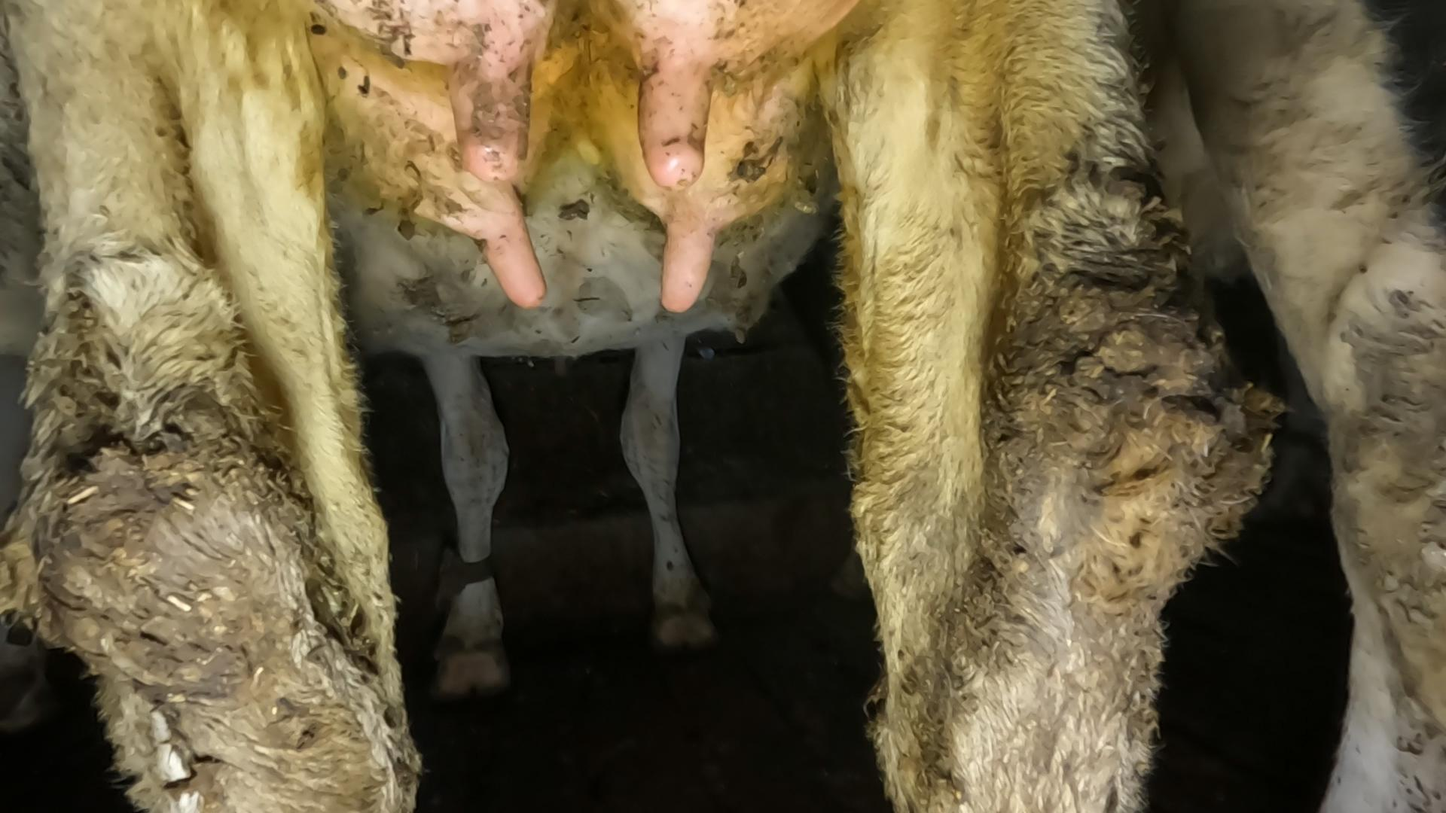Zitze: (630, 39, 740, 185), (438, 40, 539, 191), (486, 189, 551, 324), (653, 188, 713, 330)
